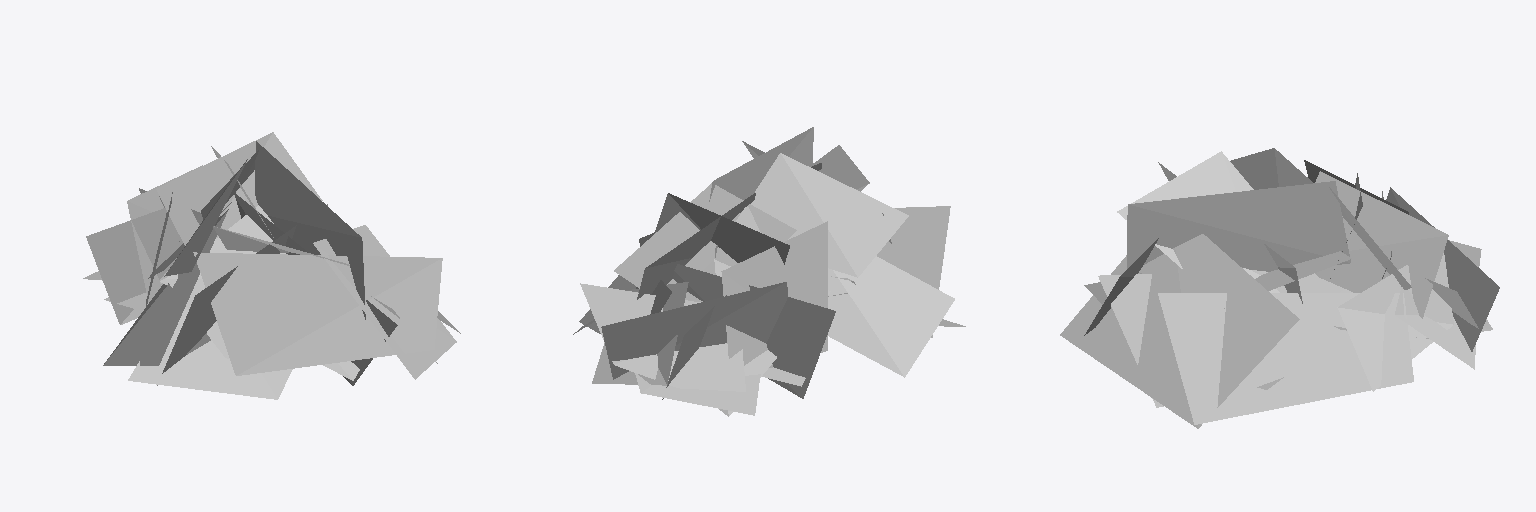
Rendered from BushBig2.obj.
The picture shows the model from 3 angles: view 1: azimuth 30°, elevation 25°; view 2: azimuth 150°, elevation 25°; view 3: azimuth 270°, elevation 25°; orthographic projection.
Parts seen in each view (by area): view 1: BushBig2_bushbig.009; view 2: BushBig2_bushbig.009; view 3: BushBig2_bushbig.009.
Boxes of the visible parts, <box> form: BushBig2_bushbig.009: <box>83,132,460,399</box>; BushBig2_bushbig.009: <box>573,127,965,416</box>; BushBig2_bushbig.009: <box>1060,148,1499,428</box>.
Bounding box in the file's own units: 2.18 × 1.31 × 2.52.